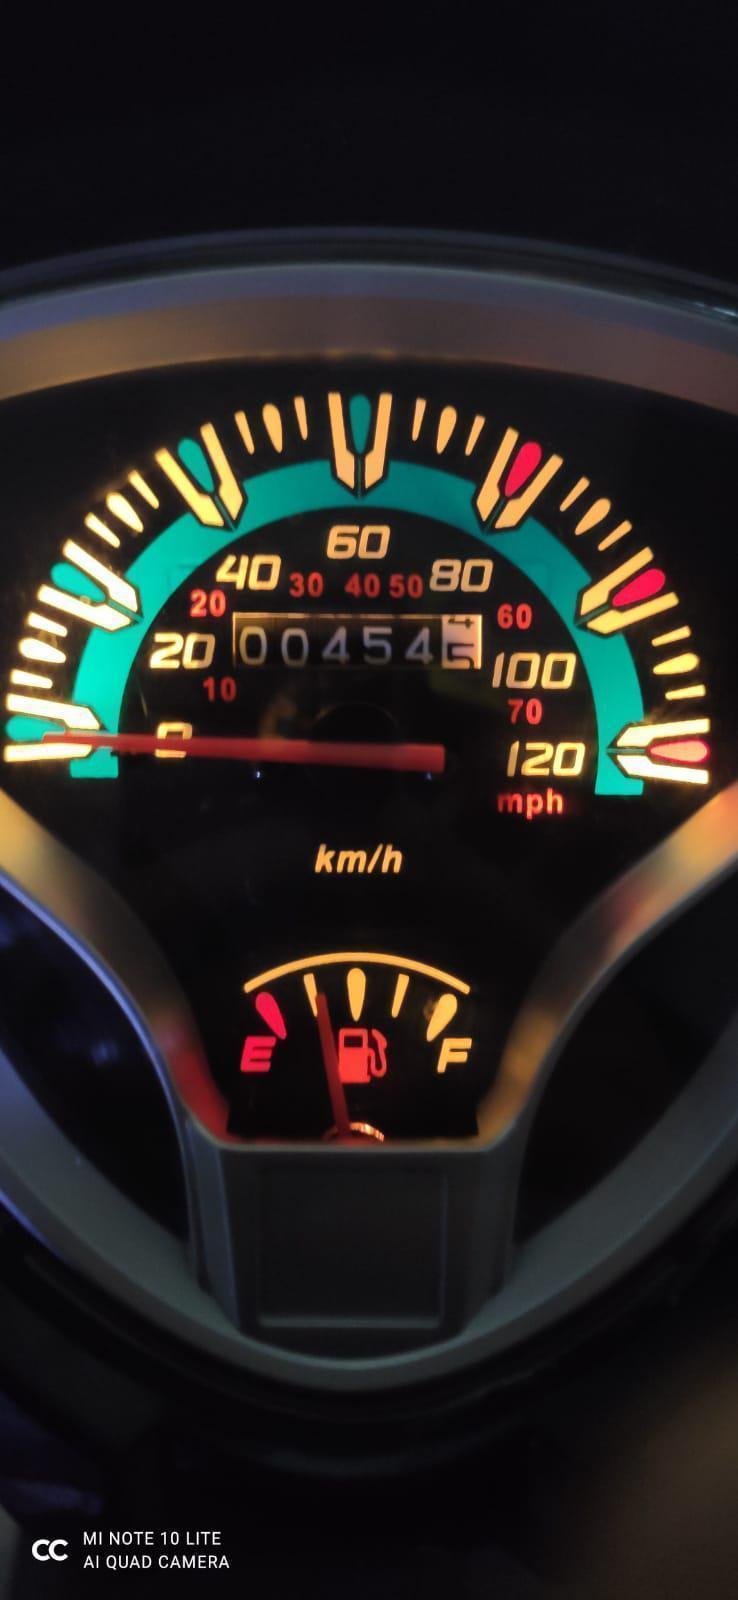0: (280, 624, 311, 667), (238, 624, 269, 664)
4: (402, 623, 439, 667), (321, 622, 354, 666)
5: (360, 624, 394, 667), (444, 636, 479, 671)
odometer: (229, 614, 492, 673)
